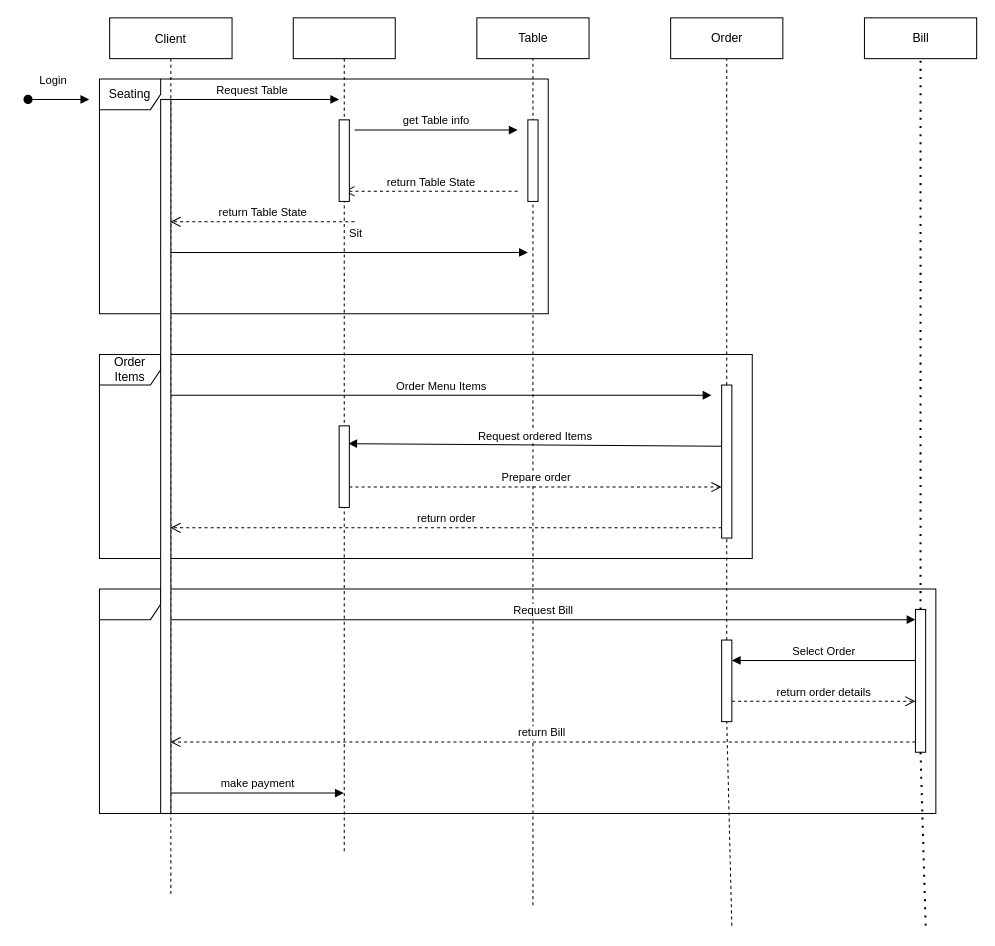
This 995x946 diagram has some shape labels left out. The shapes that lost their labels are listed below. From the top down, each one's centre as x and y in pixels, then its label:
At [343,435]: "Employee".
At [517,700]: "frame".
